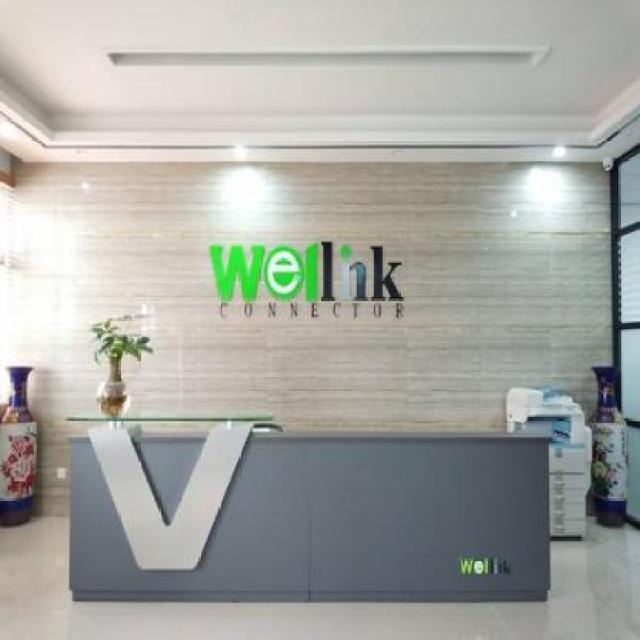frontdesk: (55, 403, 562, 609)
